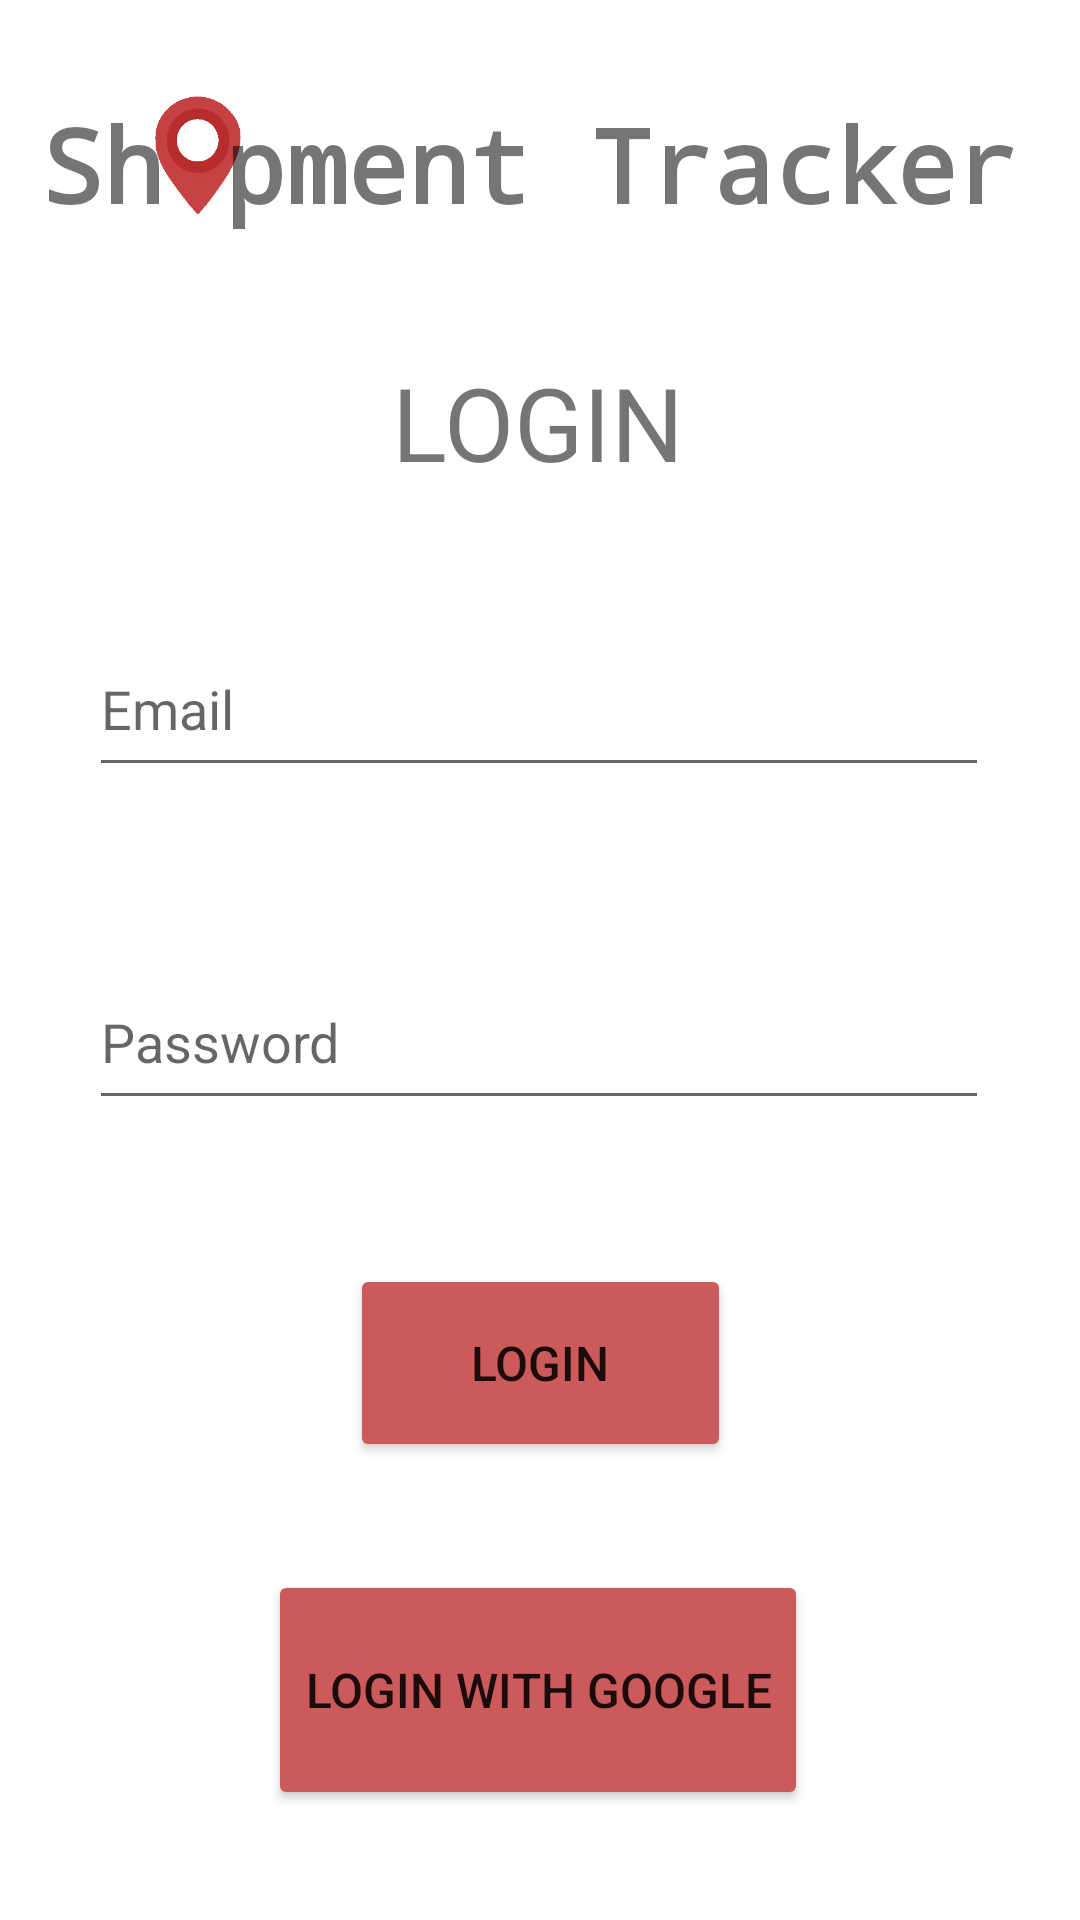

Locate icon controls on the screen. Image size 1080w x 1920h, boxes as (x1, y1, x2, y2).
pin: (138, 96, 258, 216)
